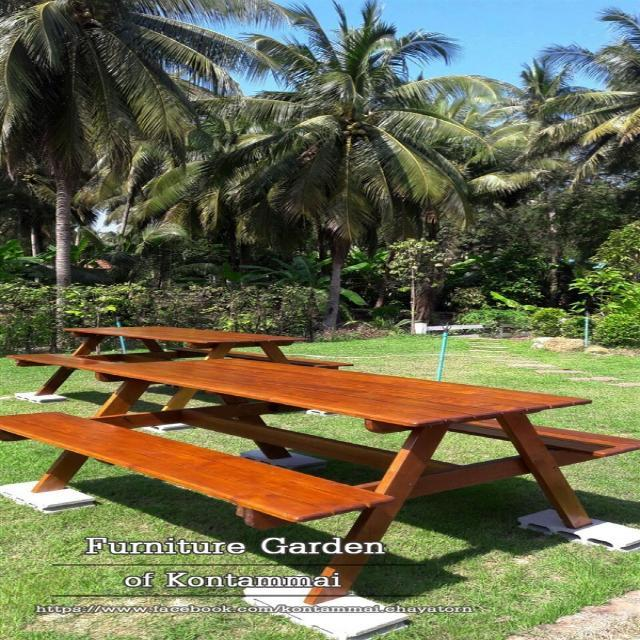table: (96, 358, 588, 454), (67, 314, 292, 352)
